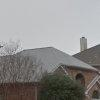Chimney: (72, 30, 91, 51)
